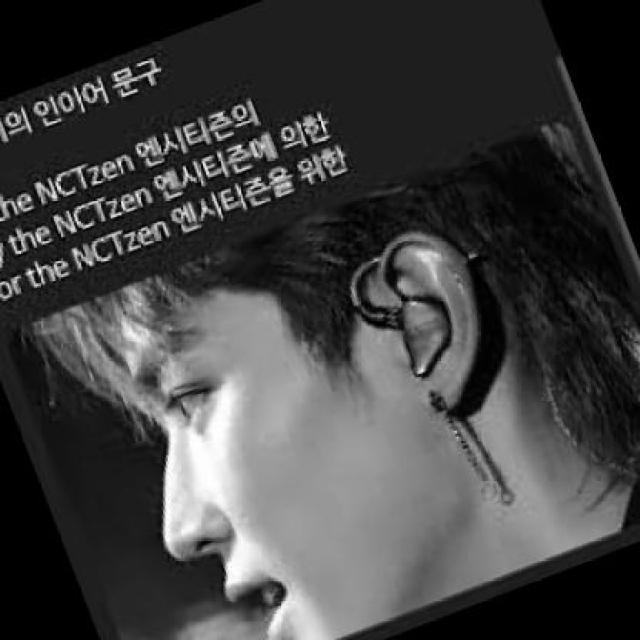earphone: (372, 280, 464, 378)
